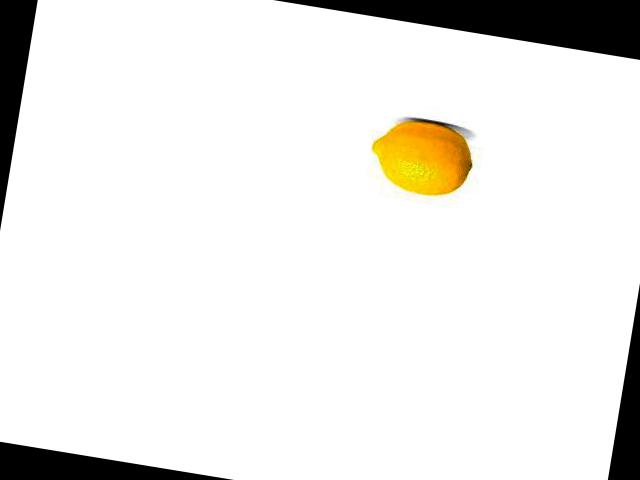lemon: (360, 111, 483, 204)
